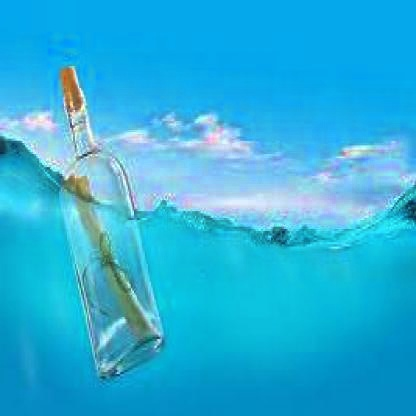gbottle: (56, 66, 165, 379)
